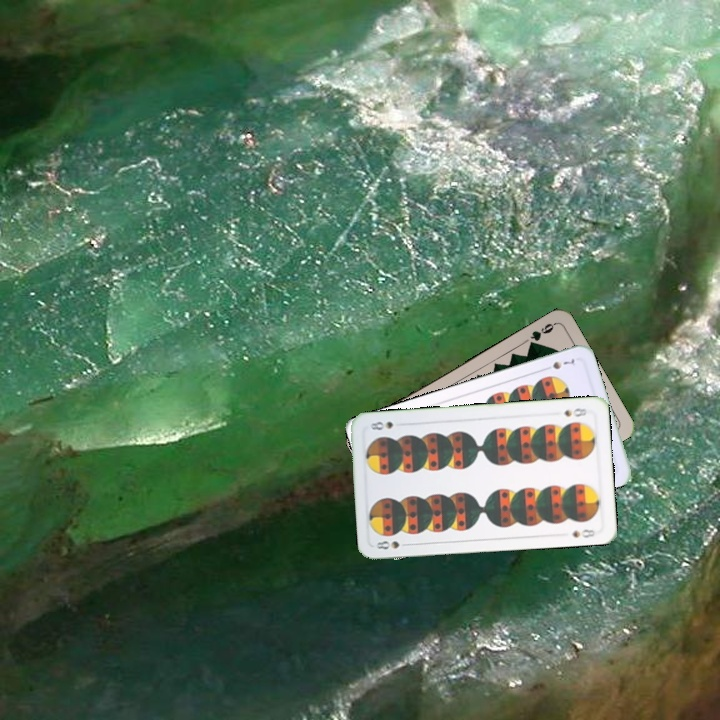G9: (525, 319, 558, 350)
S7: (539, 354, 577, 373)
S8: (560, 404, 589, 420), (372, 537, 402, 552)
